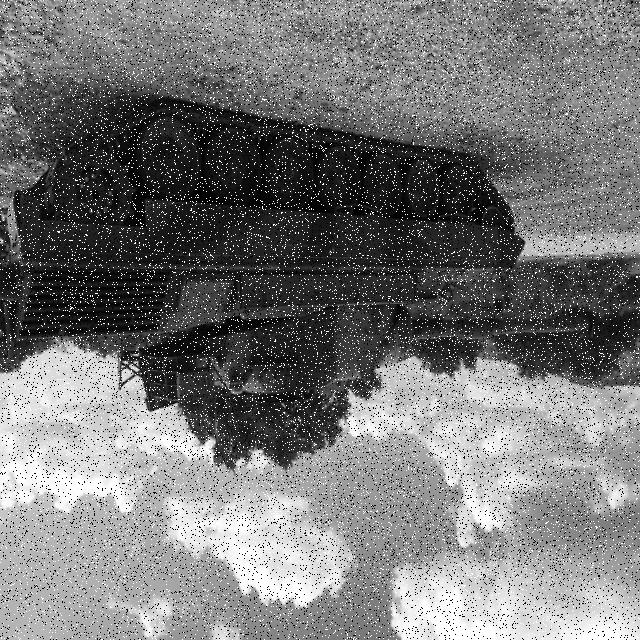MIL_MBT: (68, 58, 603, 578)
